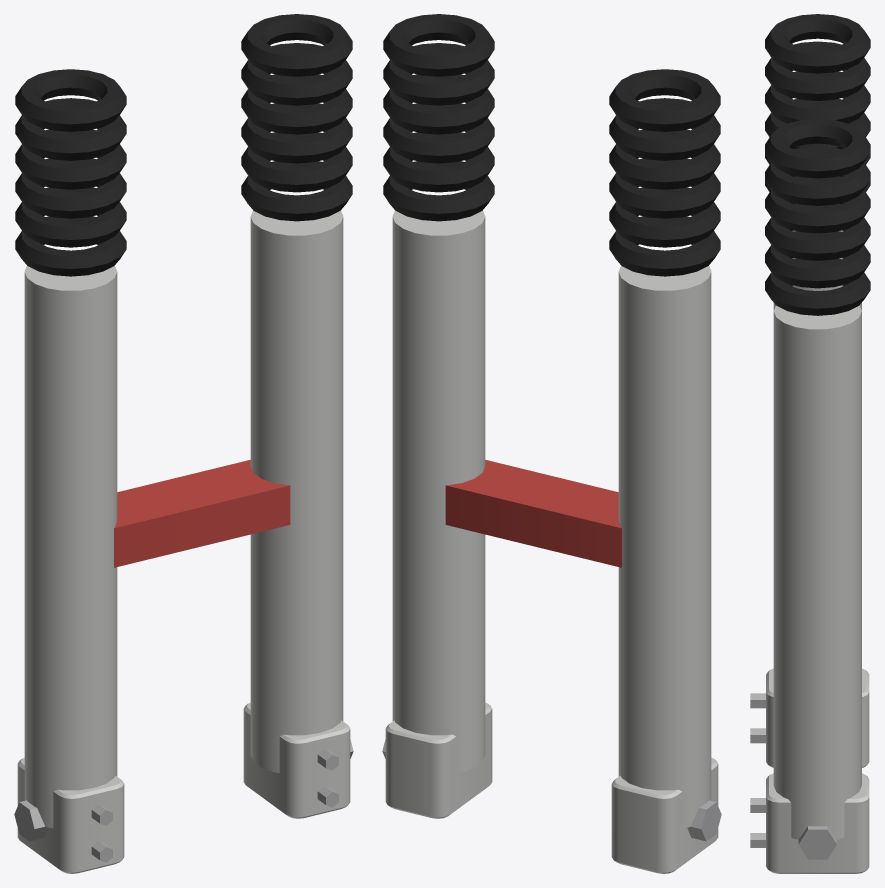
File: scrambler_gaiter_long_lower.glb
The picture shows the model from 3 angles, left to right: view 1: azimuth 30°, elevation 25°; view 2: azimuth 150°, elevation 25°; view 3: azimuth 270°, elevation 25°; orthographic projection. The views are drawn at different scales.
Parts seen in each view (by area): view 1: lod0; view 2: lod0; view 3: lod0.
Part boxes in pixels (x1=…): lod0: x1=14, y1=14, x2=353, y2=873; lod0: x1=382, y1=14, x2=721, y2=873; lod0: x1=750, y1=14, x2=870, y2=873.
Size of what is drawn, in the model's own units: 0.258 by 0.5778 by 0.0874.
